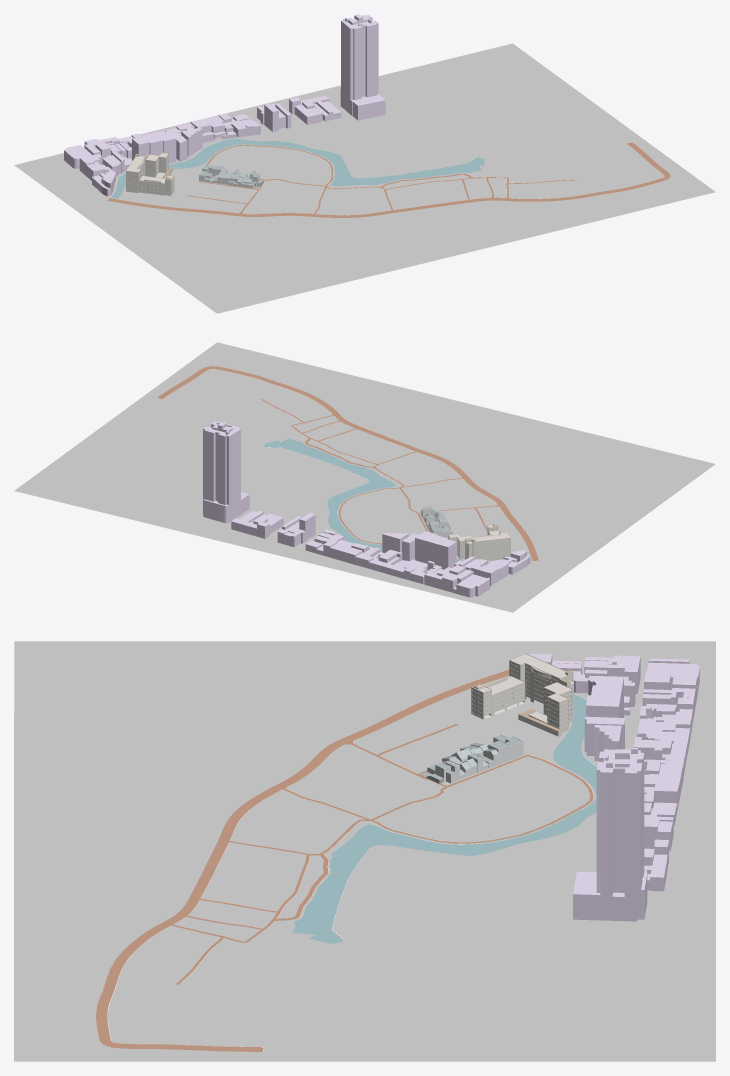
Rendered from bwg.glb.
3 views of the same model, one above another, from view 1: azimuth 30°, elevation 25°; view 2: azimuth 150°, elevation 25°; view 3: azimuth 270°, elevation 25° (orthographic). The views are drawn at different scales.
Visible parts, largest first — view 1: EE_001, b11_001, d1_001, d2_001; view 2: EE_001, b11_001, d1_001, d2_001; view 3: EE_001, b11_001, d1_001, d2_001, c16_001.
Boxes of the visible parts, x1,y1,x2,y2 form: EE_001: (14, 43, 715, 313); b11_001: (64, 14, 385, 196); d1_001: (107, 142, 670, 217); d2_001: (110, 139, 484, 198); EE_001: (14, 342, 715, 612); b11_001: (203, 421, 530, 597); d1_001: (157, 366, 539, 560); d2_001: (264, 438, 531, 563); EE_001: (14, 641, 715, 1061); b11_001: (528, 653, 699, 921); d1_001: (96, 669, 593, 1051); d2_001: (291, 694, 597, 943); c16_001: (509, 653, 573, 682).
Size of the model in its own units: 610 by 107 by 431.
